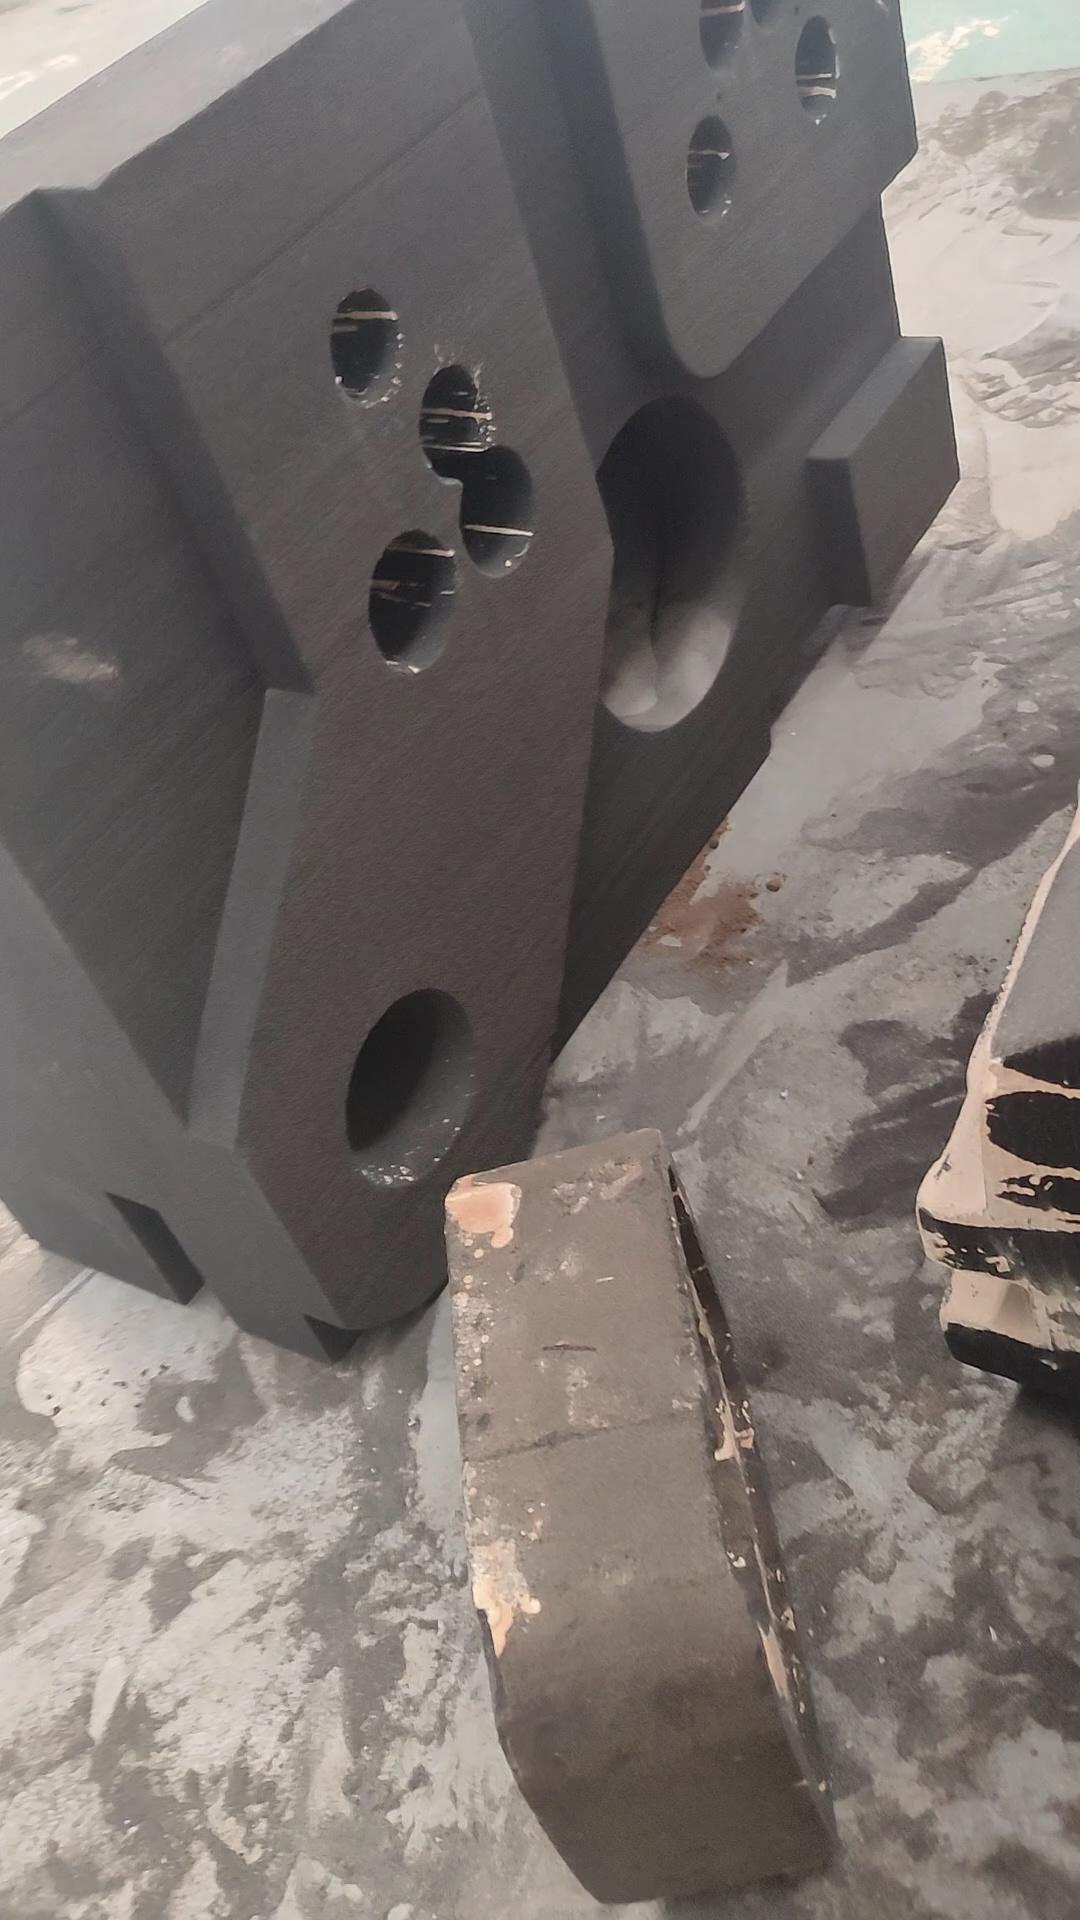pouring hole: (345, 989, 479, 1184)
